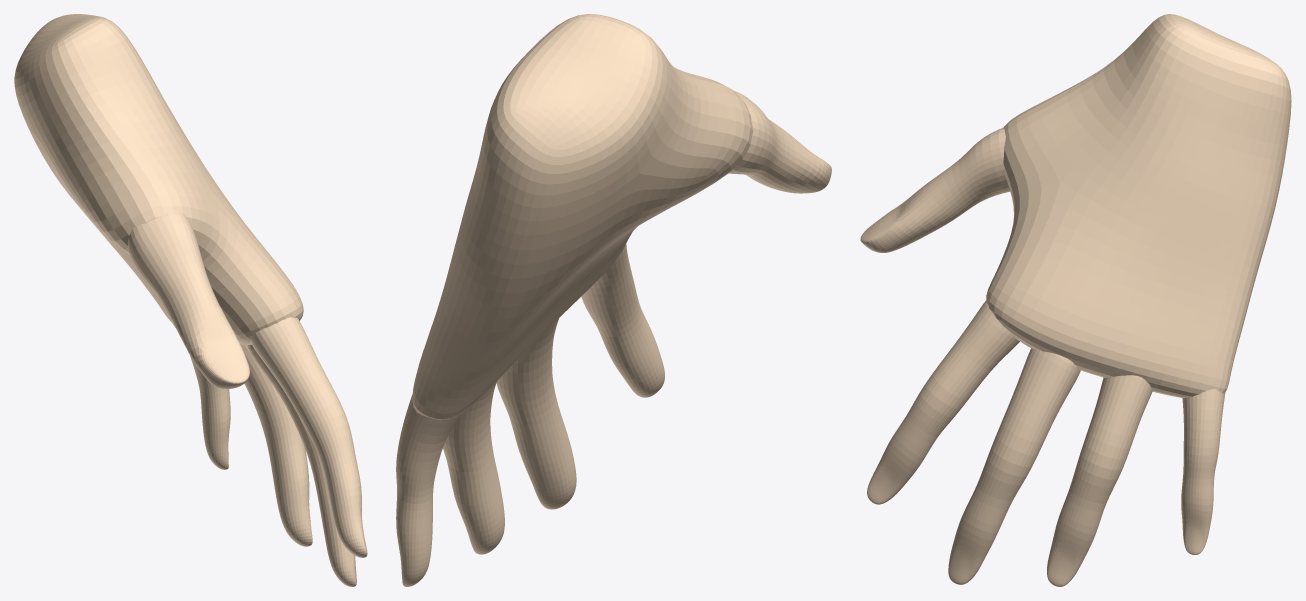
Rendered from LeftHand.fbx.
3 views of the same model, side by side, from view 1: azimuth 30°, elevation 25°; view 2: azimuth 150°, elevation 25°; view 3: azimuth 270°, elevation 25° (orthographic). The views are drawn at different scales.
Parts seen in each view (by area): view 1: LeftHand; view 2: LeftHand; view 3: LeftHand.
Part boxes in pixels (x1,y1,x2,y2): LeftHand: [14, 14, 367, 586]; LeftHand: [396, 14, 831, 586]; LeftHand: [860, 14, 1291, 586].
Size of the model in its own units: 0.0818 by 0.1816 by 0.1436.
